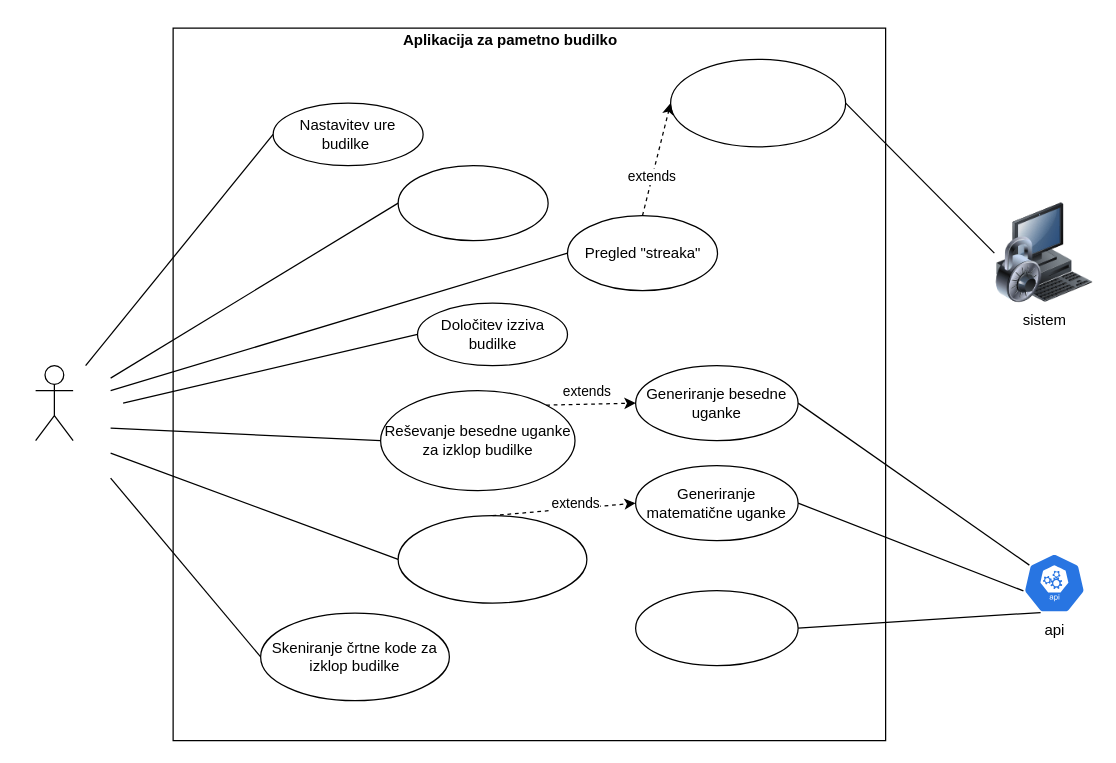
Image size: 1116x763. Some labels were removed from this diagram. The box of each missing label's shape, as (x1, y1, x2, y2) in pixels:
Pregled nastavljenih budilk: (397, 164, 548, 241)
Prikaz motivacijskega citata: (634, 589, 798, 666)
Reševanje matematične uganke za izklop budilke: (397, 514, 587, 603)
Spremljanje in shranjevanje "streaka": (669, 58, 846, 147)
uporabnik: (34, 364, 73, 441)
